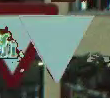Give way: (0, 1, 99, 90)
